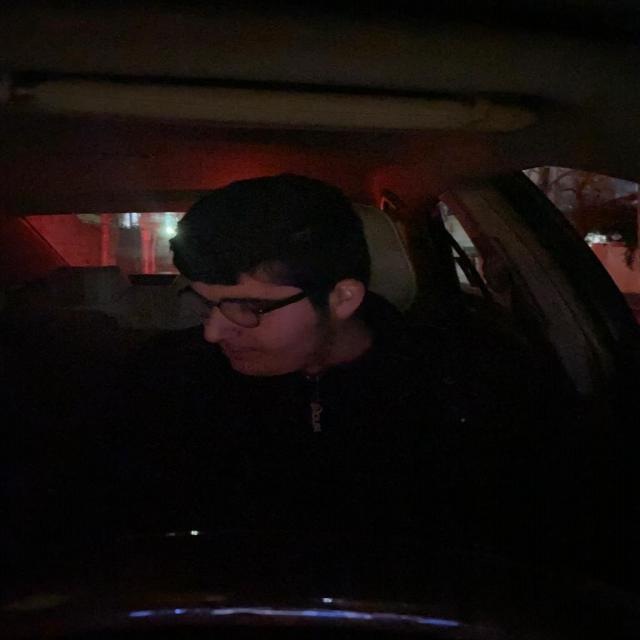drowsy: (167, 193, 379, 379)
